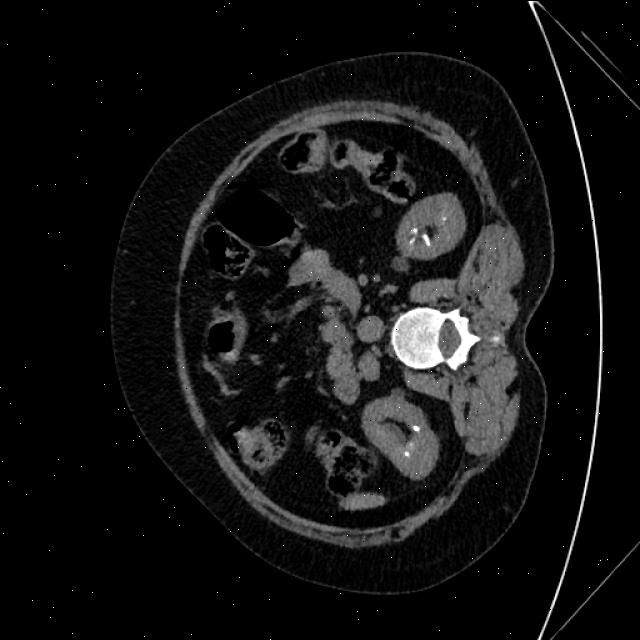kidneystone: (425, 239, 431, 246), (422, 234, 428, 240), (412, 426, 419, 431)
